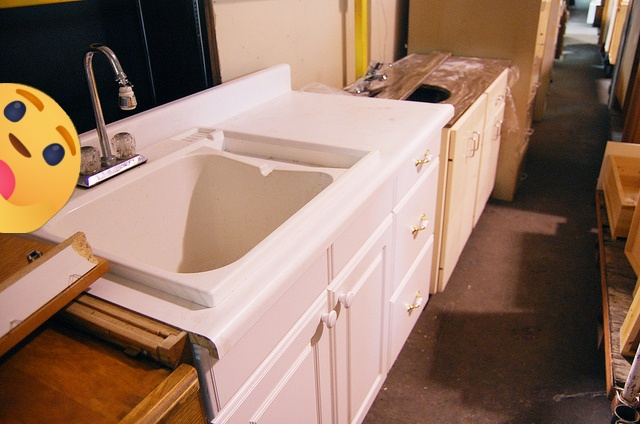care: (0, 83, 81, 233)
